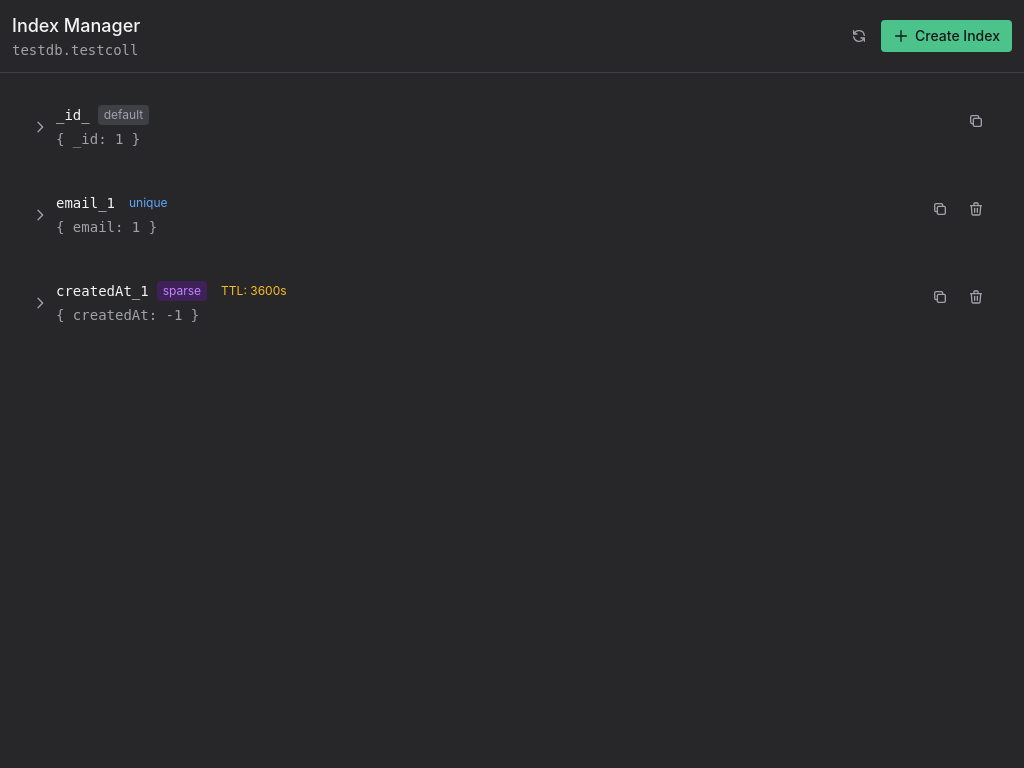
Test: IndexView › delete index › shows confirmation dialog when delete button is clicked
Expected: the text "email_1" is shown, [56,193,115,213]
Click the button titled "Drop index" in the row of "unique". click: (976, 209)
box: [960,193,992,225]
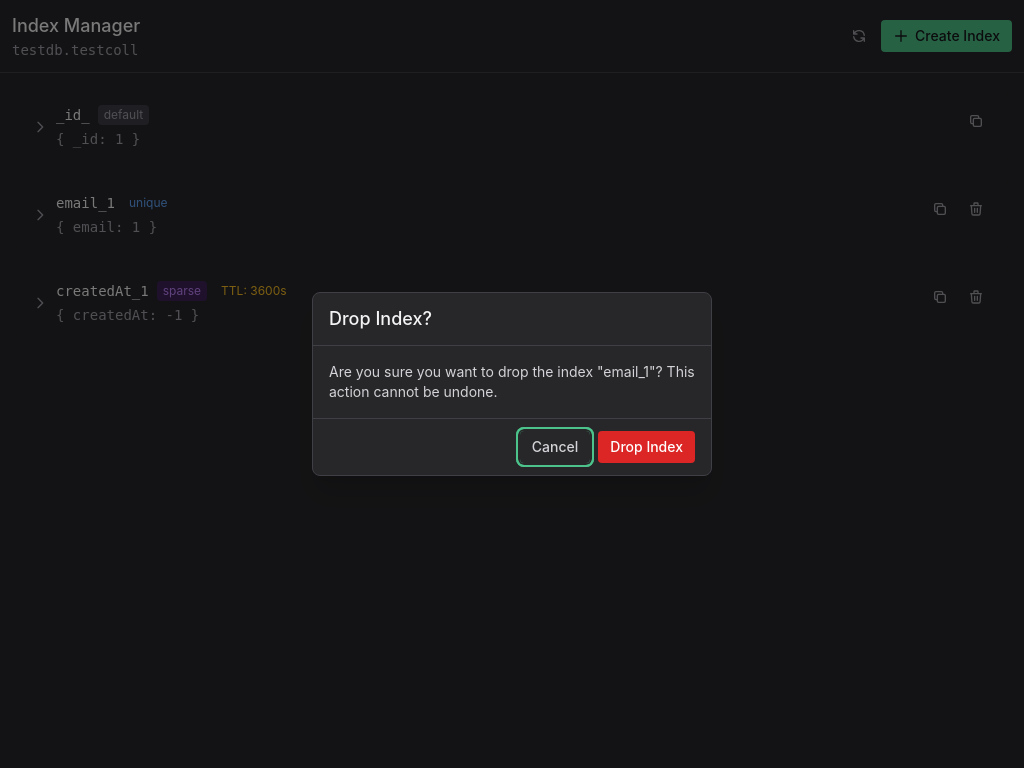
Expected: the heading "Drop Index?" is shown, [329,308,432,329]
Expected: the text "Are you sure you want to drop the index \"email_1\"" is shown, [329,363,695,400]
